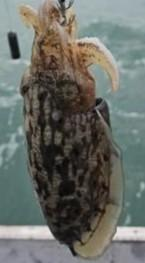Cephalopod: (19, 0, 122, 257)
